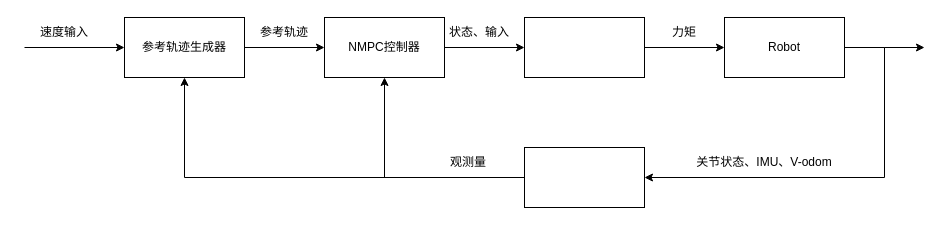
Some shapes in this 950 by 225 pixel diagram are drawn without their labels. The shapes that lost their labels are listed below. From the top down, each one's centre as x and y in pixels, then its label:
At point (584, 47): "力矩PD控制器".
At point (584, 177): "状态估计器".
